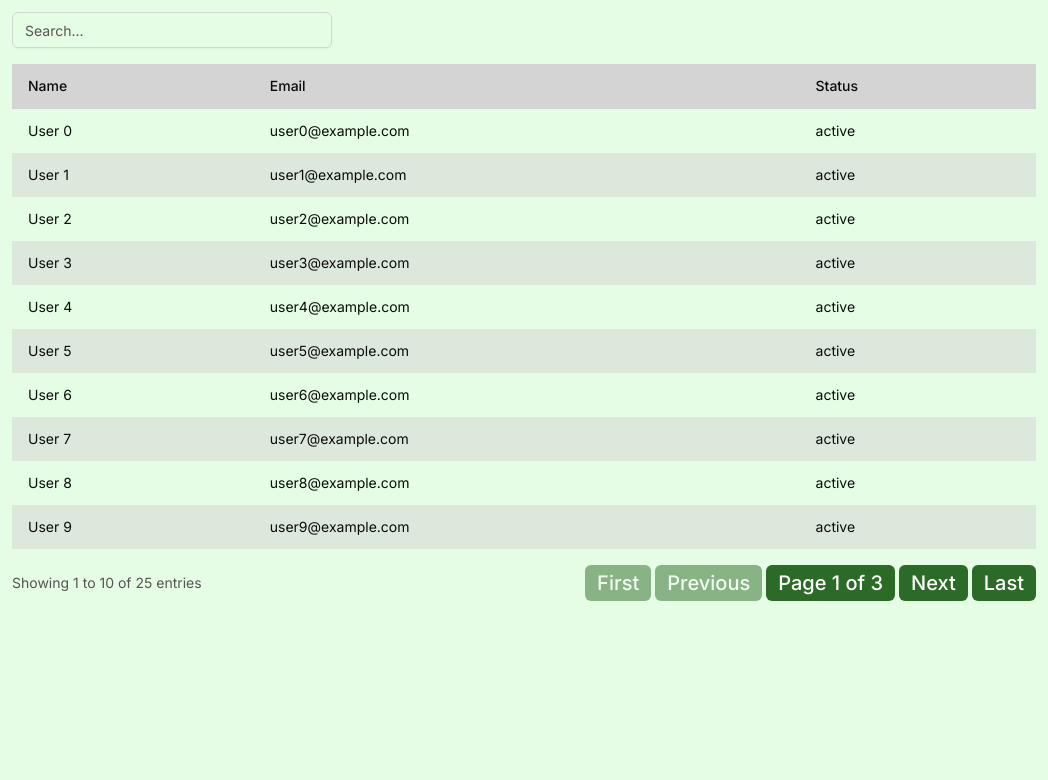
it: DataTable › pagination › should navigate pages with Next button
Click the button "Next".
click(933, 583)  # box [899,565,968,601]
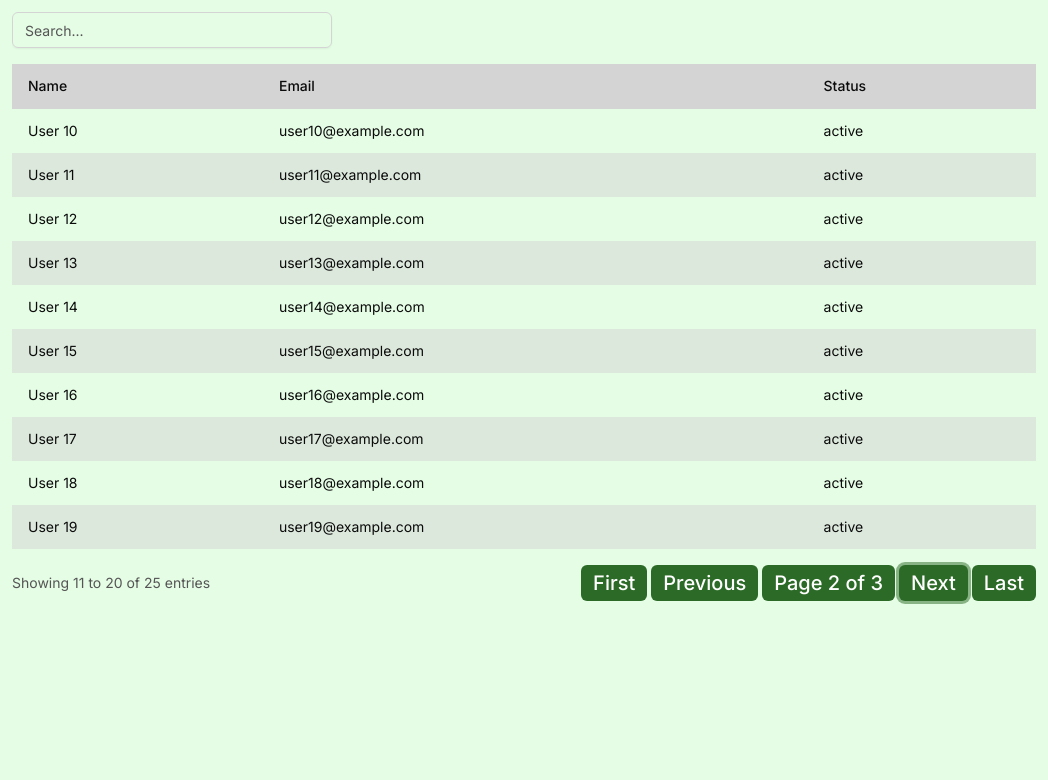
Expected: the text "Showing 11 to 20 of 25 entries" is shown, [12,573,210,593]
